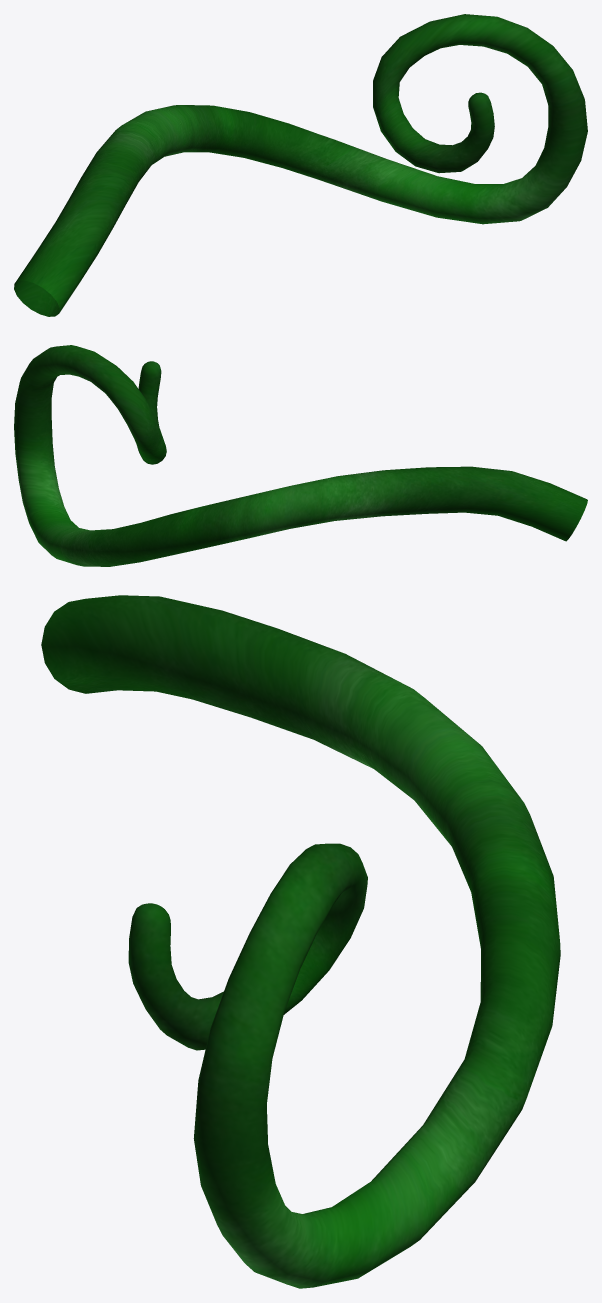
File: branch_1.FBX
3 views of the same model, one above another, from view 1: azimuth 30°, elevation 25°; view 2: azimuth 150°, elevation 25°; view 3: azimuth 270°, elevation 25° (orthographic). The views are drawn at different scales.
Parts seen in each view (by area): view 1: Cylinder139; view 2: Cylinder139; view 3: Cylinder139.
Boxes of the visible parts, <box> form: Cylinder139: <box>14,14,587,316</box>; Cylinder139: <box>14,345,587,566</box>; Cylinder139: <box>41,595,560,1288</box>.
Bounding box in the file's own units: 84.18 × 29.34 × 35.36.
Materials: 1 (1 with a texture image).
